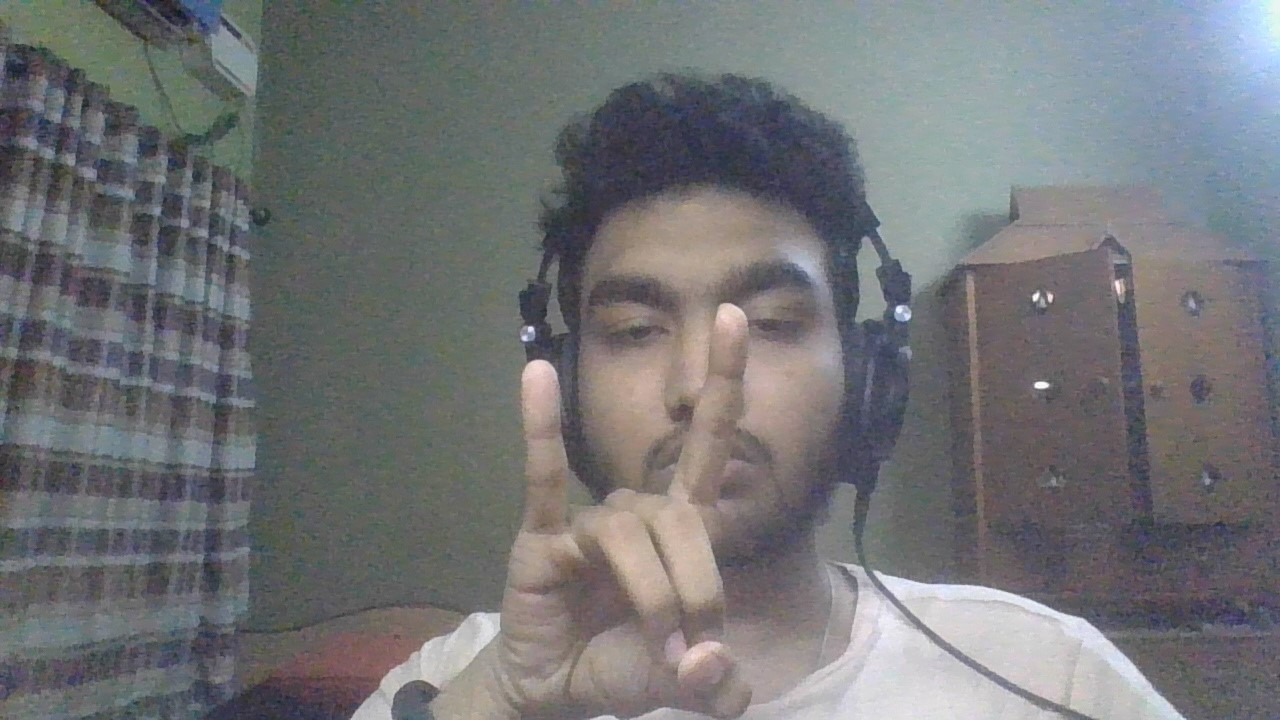Love: (509, 295, 774, 714)
